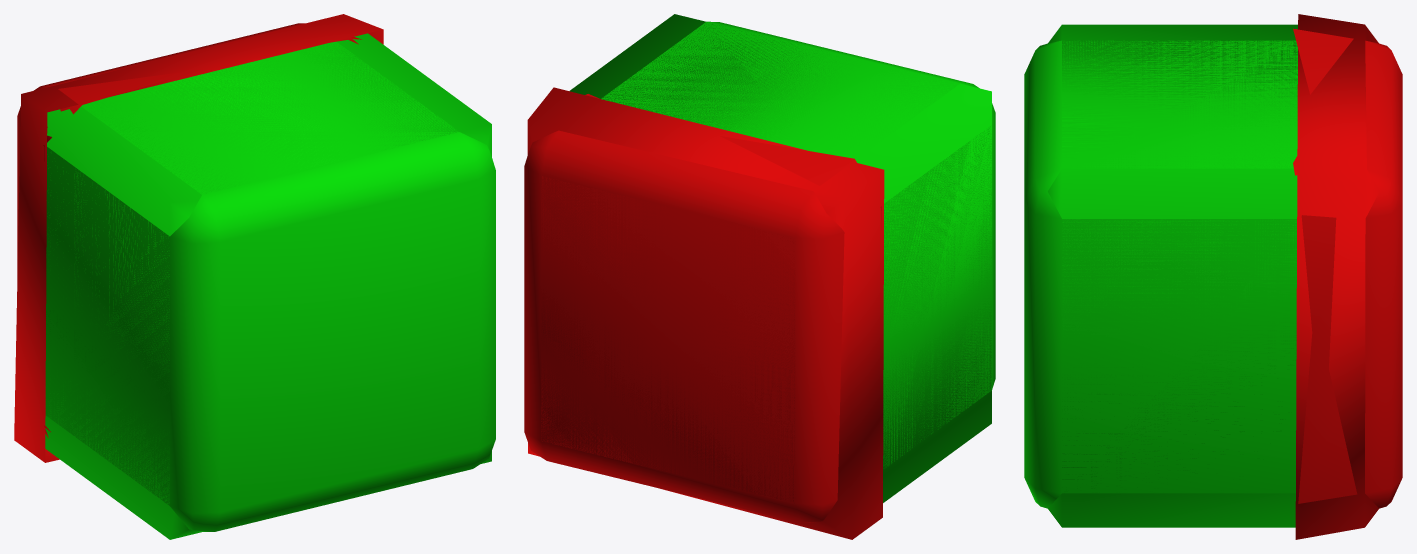
The model's file is Grass-██.fbx.
3 renders of one model, left to right at view 1: azimuth 30°, elevation 25°; view 2: azimuth 150°, elevation 25°; view 3: azimuth 270°, elevation 25°, orthographic. The views are drawn at different scales.
Parts seen in each view (by area): view 1: Grass-██.LOD1, Grass-██.LOD3; view 2: Grass-██.LOD1, Grass-██.LOD3; view 3: Grass-██.LOD1, Grass-██.LOD3.
Boxes of the visible parts, x1=… form: Grass-██.LOD1: x1=17, y1=23, x2=495, y2=531; Grass-██.LOD3: x1=14, y1=14, x2=491, y2=539; Grass-██.LOD1: x1=524, y1=21, x2=995, y2=522; Grass-██.LOD3: x1=527, y1=14, x2=991, y2=539; Grass-██.LOD1: x1=1024, y1=28, x2=1402, y2=508; Grass-██.LOD3: x1=1048, y1=14, x2=1379, y2=539.
Size of the model in its own units: 104 by 100 by 105.
